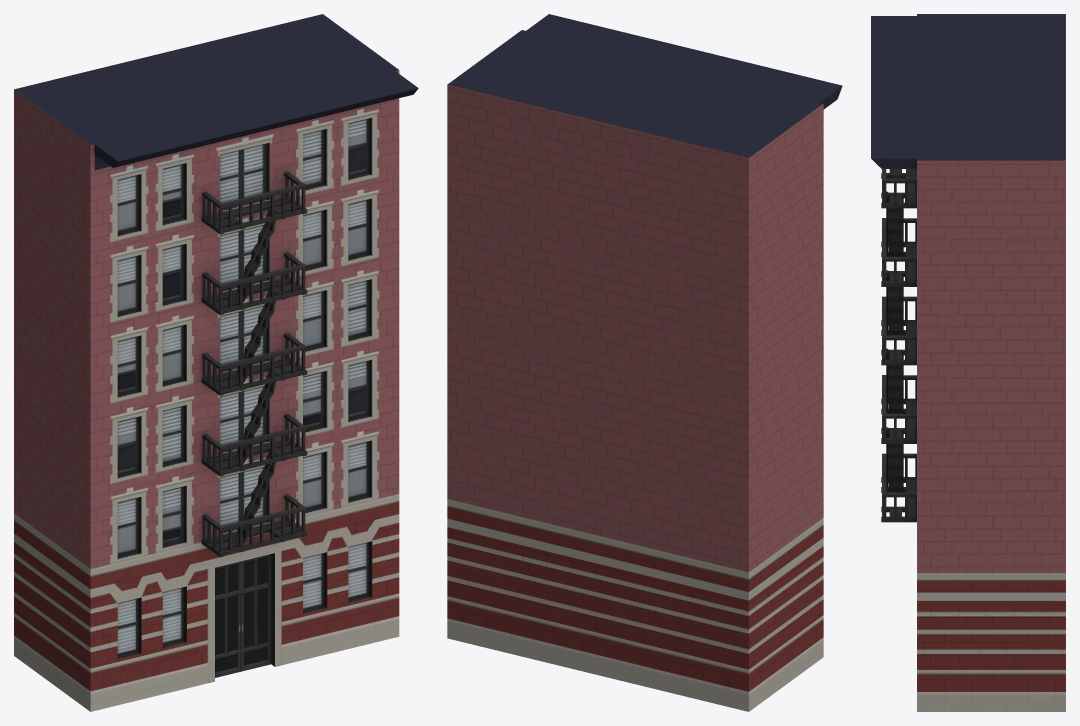
File: pp-apart.glb
3 renders of one model, left to right at view 1: azimuth 30°, elevation 25°; view 2: azimuth 150°, elevation 25°; view 3: azimuth 270°, elevation 25°, orthographic. The views are drawn at different scales.
Visible parts, largest first — view 1: Apartment_mesh; view 2: Apartment_mesh; view 3: Apartment_mesh.
Boxes of the visible parts, bbox=[...] form: Apartment_mesh: bbox=[14, 14, 418, 711]; Apartment_mesh: bbox=[447, 14, 842, 711]; Apartment_mesh: bbox=[871, 14, 1065, 711].
Size of the model in its own units: 10.32 by 18.1 by 5.79.
1 material, 1 textured.
